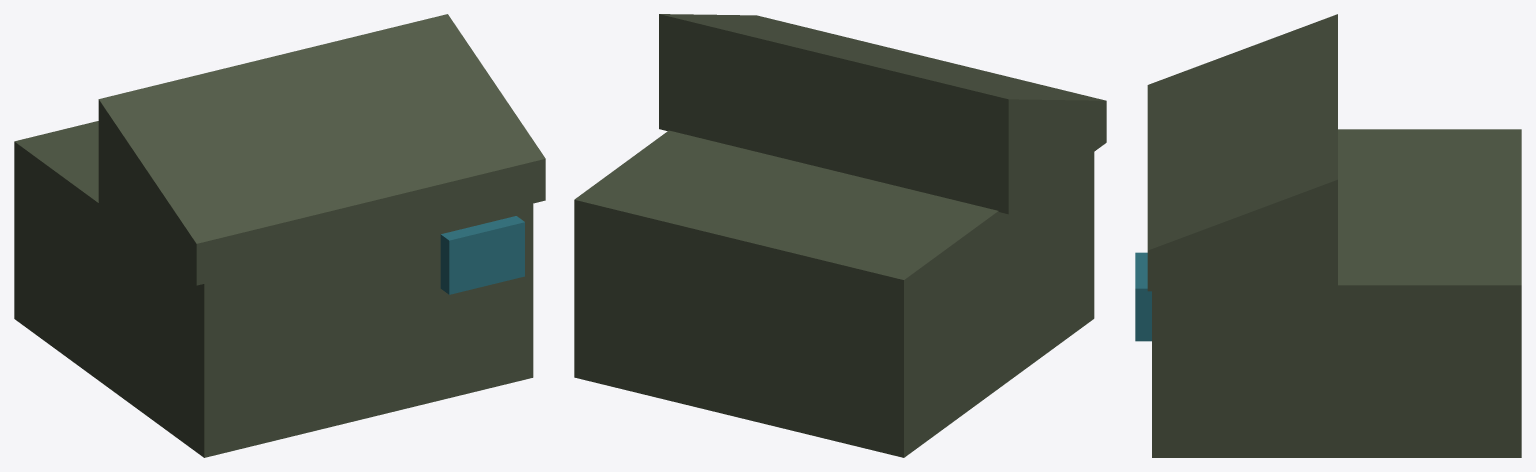
The model's file is Bastion_Turret_WeaponYaw.obj.
3 renders of one model, left to right at view 1: azimuth 30°, elevation 25°; view 2: azimuth 150°, elevation 25°; view 3: azimuth 270°, elevation 25°, orthographic. The views are drawn at different scales.
Visible parts, largest first — view 1: Bastion_Turret_WeaponYaw; view 2: Bastion_Turret_WeaponYaw; view 3: Bastion_Turret_WeaponYaw.
Boxes of the visible parts, x1,y1,x2,y2 form: Bastion_Turret_WeaponYaw: (14, 14, 545, 457); Bastion_Turret_WeaponYaw: (574, 14, 1106, 457); Bastion_Turret_WeaponYaw: (1135, 14, 1521, 457).
Bounding box in the file's own units: 1.75 × 1.4 × 1.73.
1 material, 1 textured.
